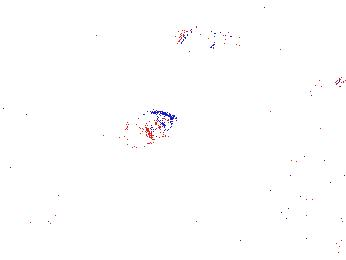X-ray fish: (104, 110, 181, 148)
glassfish: (120, 137, 228, 205)
redtail glassfish: (224, 25, 291, 55), (173, 15, 226, 51), (272, 74, 342, 95), (262, 4, 315, 30)
